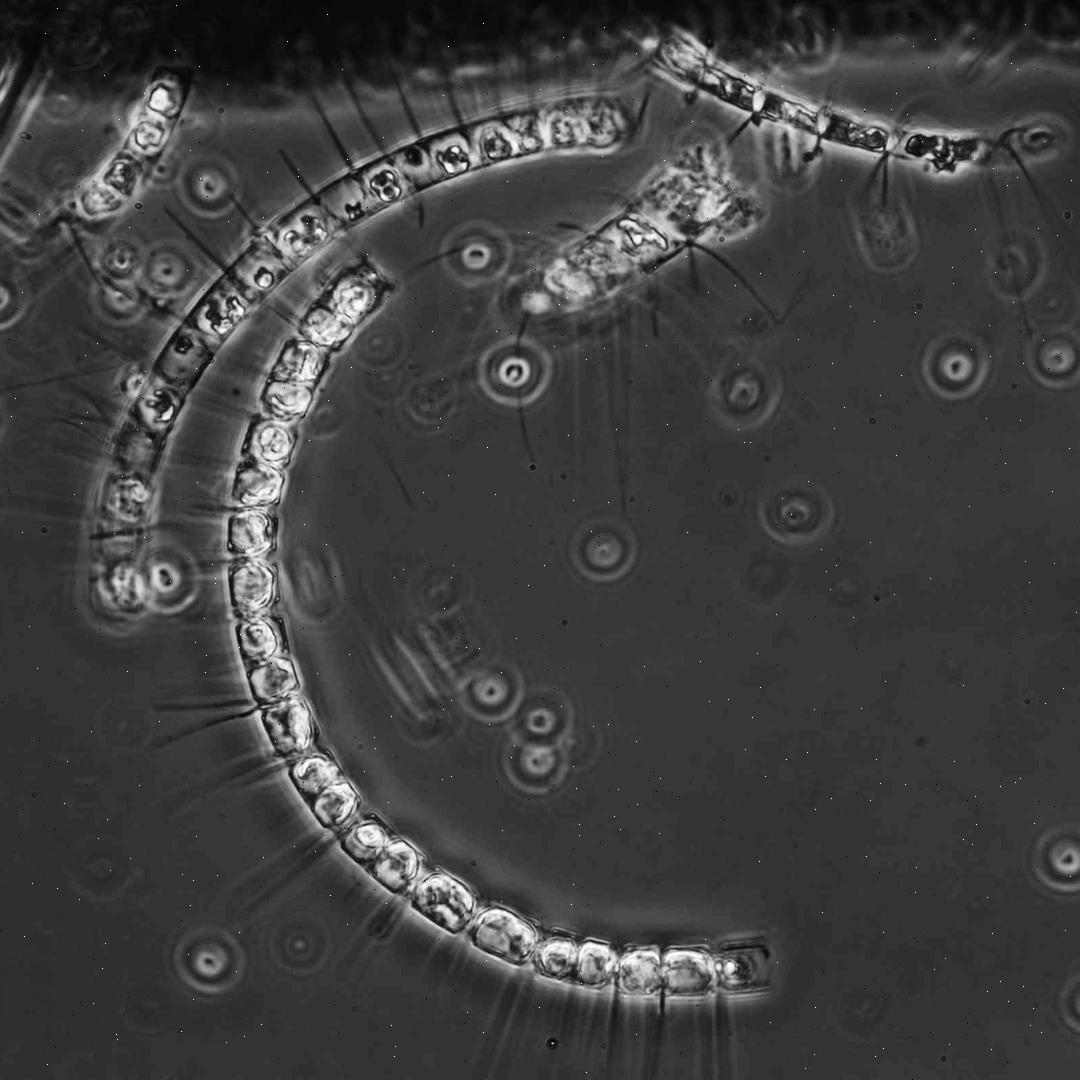chaetoceros_curvisetus: (143, 262, 773, 1078), (88, 52, 627, 621)
